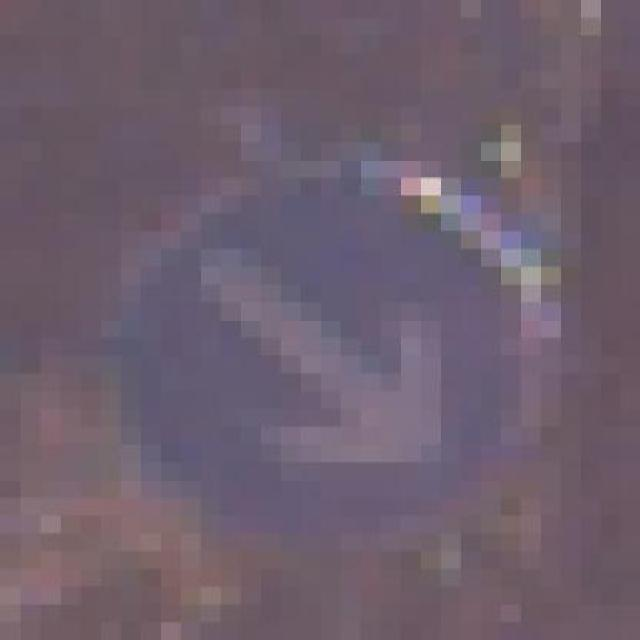Keep-Right: (80, 71, 580, 551)
